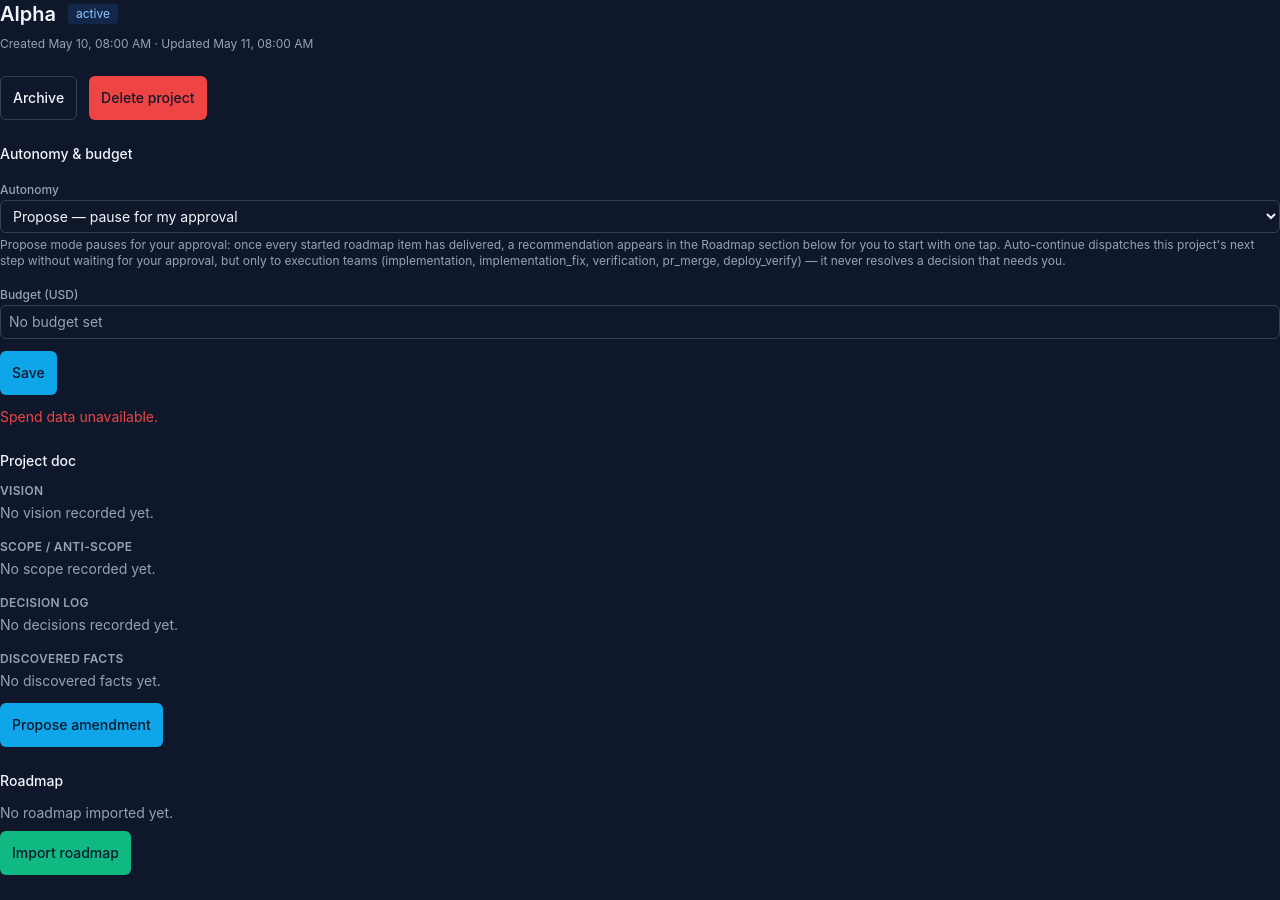
Test: Project › roadmap section › Escape closes the import modal without importing
This screenshot has width=1280, height=900.
Click the button with test id "import-roadmap-open": (65, 853) [0,831,131,875]
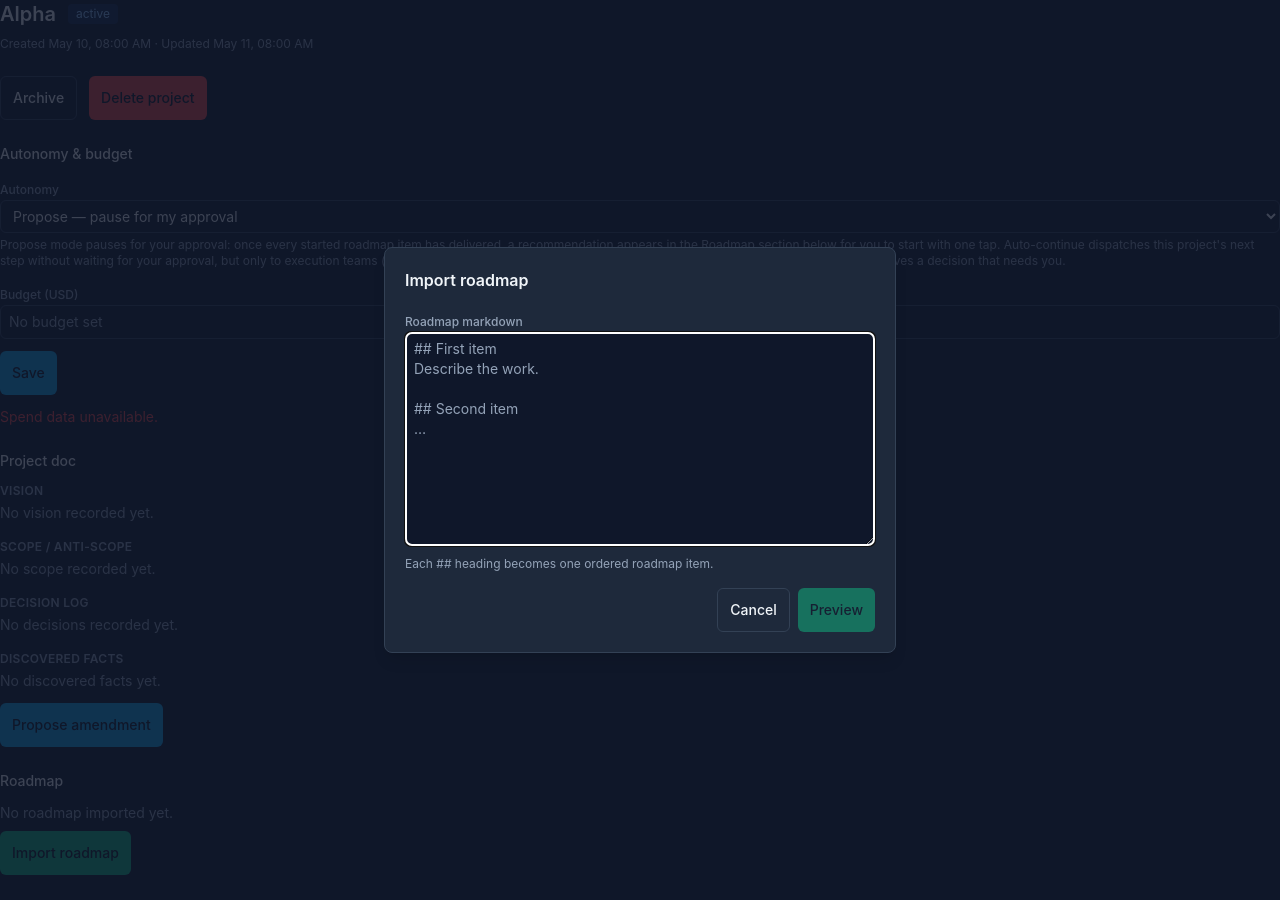
Press Escape in the form, box [385,248,895,652]
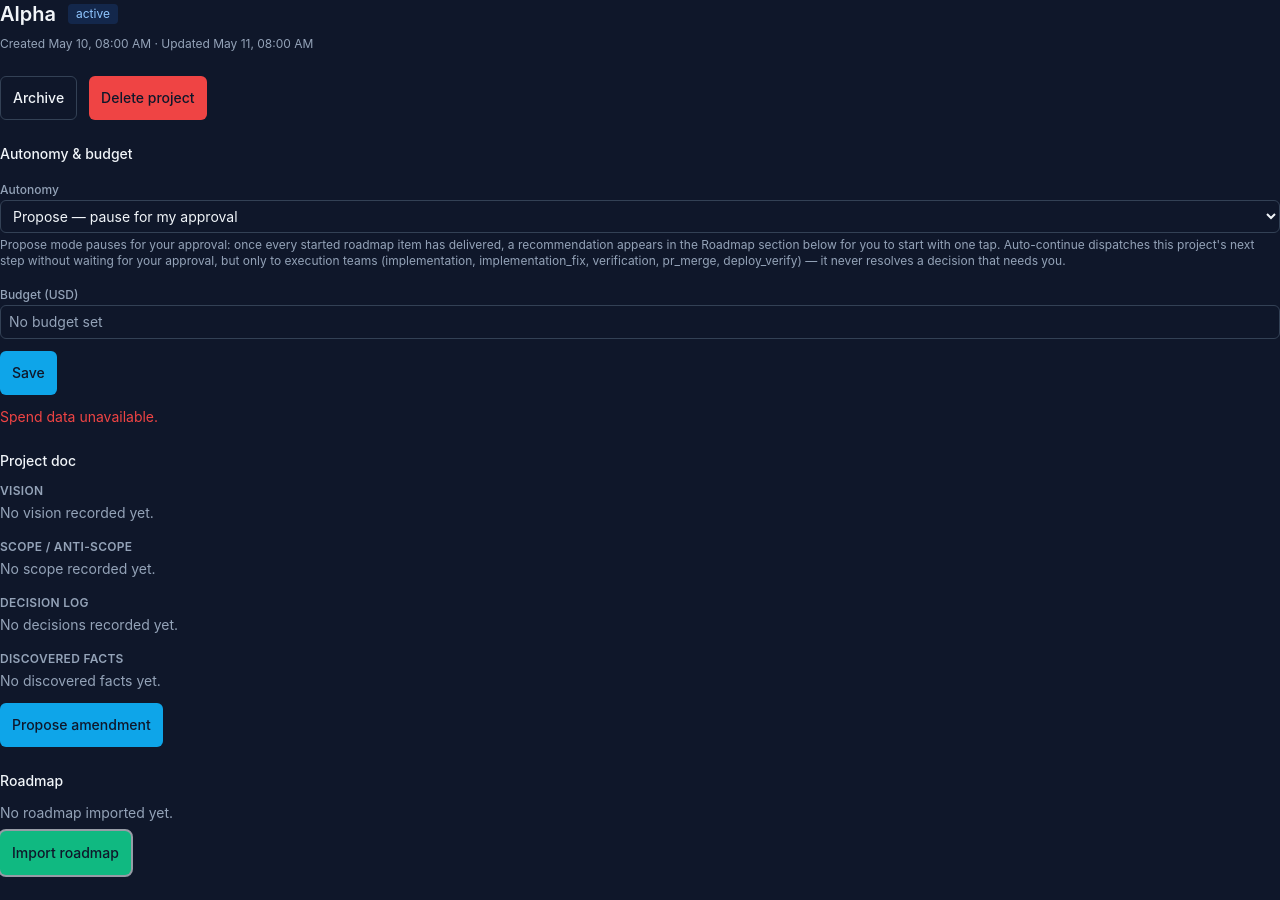
Check: the dialog with test id "import-roadmap-dialog" is gone
